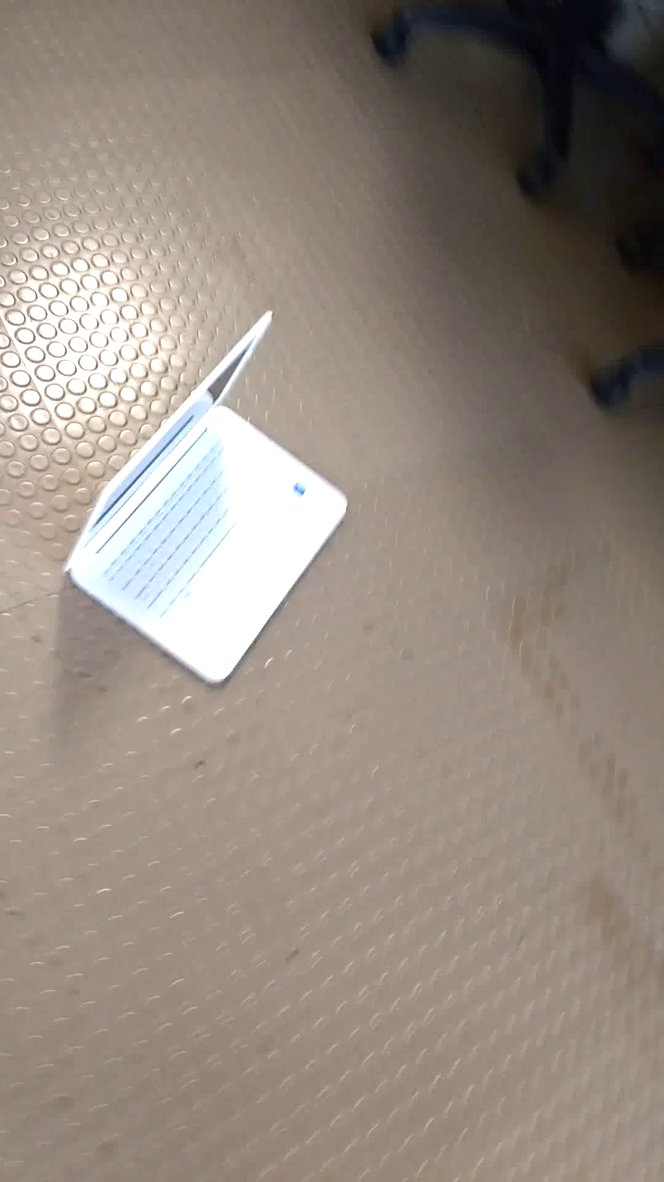laptop: (60, 300, 353, 702)
